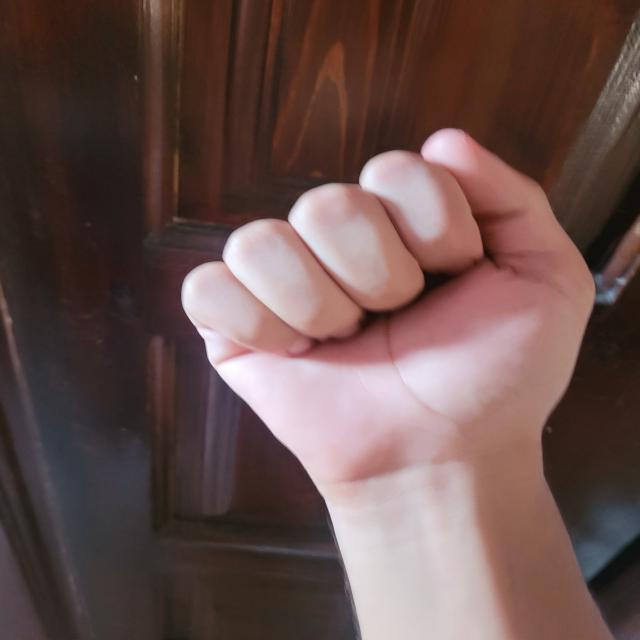Closed Hand: (179, 125, 598, 489)
